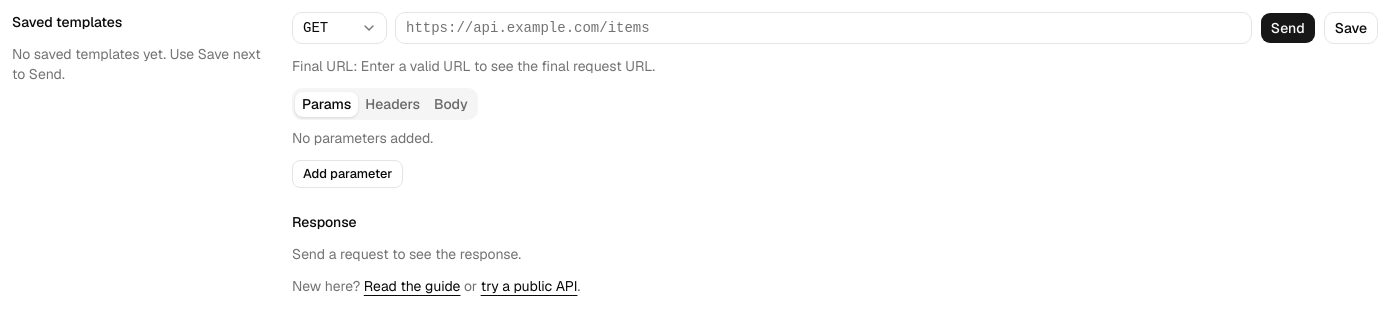
Test case: Playground execution (FR-04, FR-07) › Cancel aborts the request, shows it as cancelled, and does not resubmit
This screenshot has width=1390, height=314.
Type "https://api.example.com" into the field named "URL" at (823, 28), box 395,12 -> 1252,44
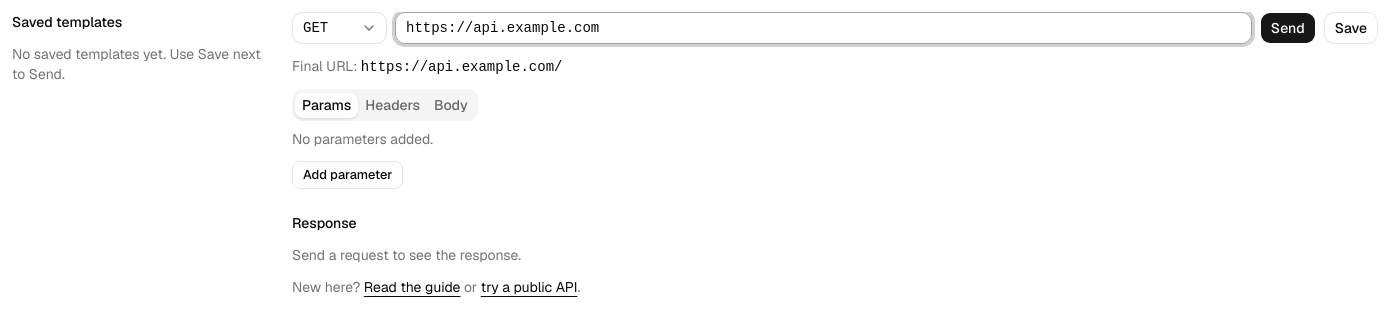
Click the button "Send" at (1288, 28), box 1260,12 -> 1316,44
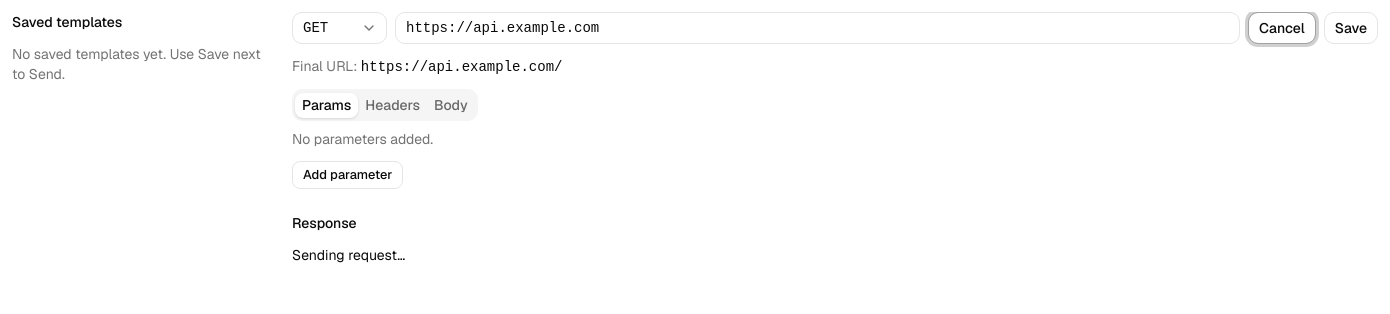
Click the button "Cancel" at (1282, 28), box 1248,12 -> 1316,44
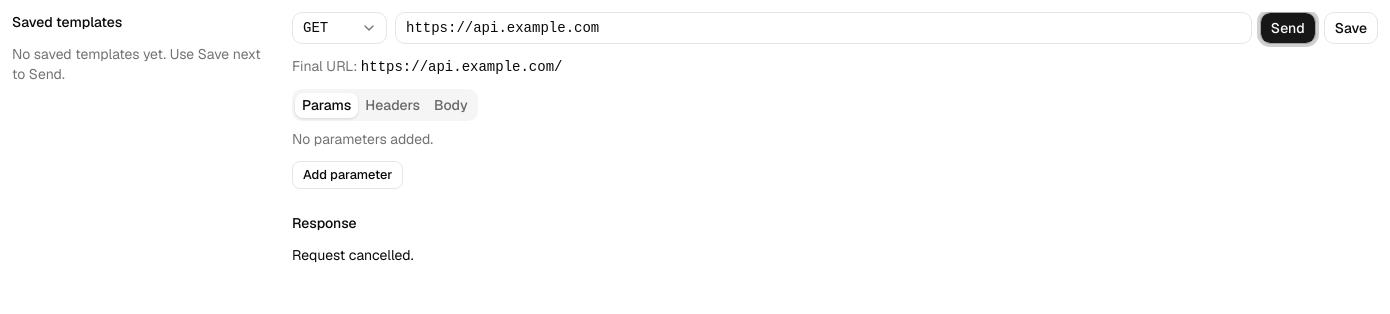
Expected: the button "Send" is shown, 1260,12 -> 1316,44
Expected: the message reads "Request cancelled.", 292,246 -> 414,264
